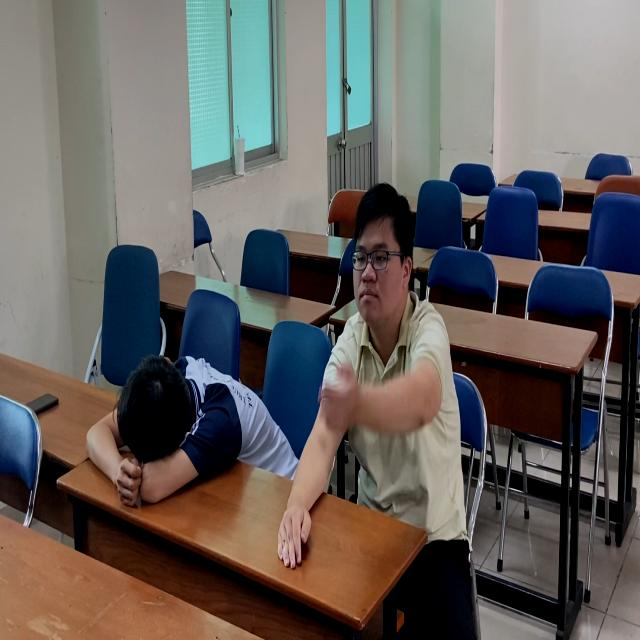sleep: (81, 337, 294, 520)
